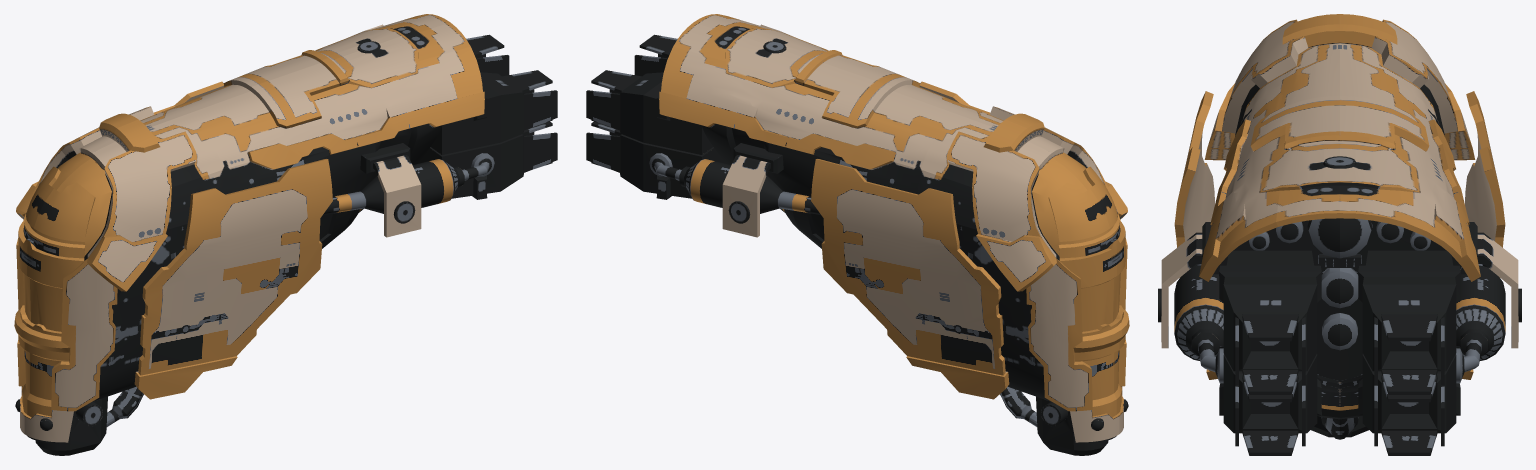
The model's file is augoror.glb.
3 views of the same model, side by side, from view 1: azimuth 30°, elevation 25°; view 2: azimuth 150°, elevation 25°; view 3: azimuth 270°, elevation 25° (orthographic). The views are drawn at different scales.
Visible parts, largest first — view 1: Augoror; view 2: Augoror; view 3: Augoror.
Part boxes in pixels (box(x1,y1,x2,y2)): Augoror: box(14, 14, 557, 455); Augoror: box(586, 14, 1129, 455); Augoror: box(1158, 14, 1521, 455).
Size of the model in its own units: 175 by 111 by 76.63.
Materials: 1 (1 with a texture image).
